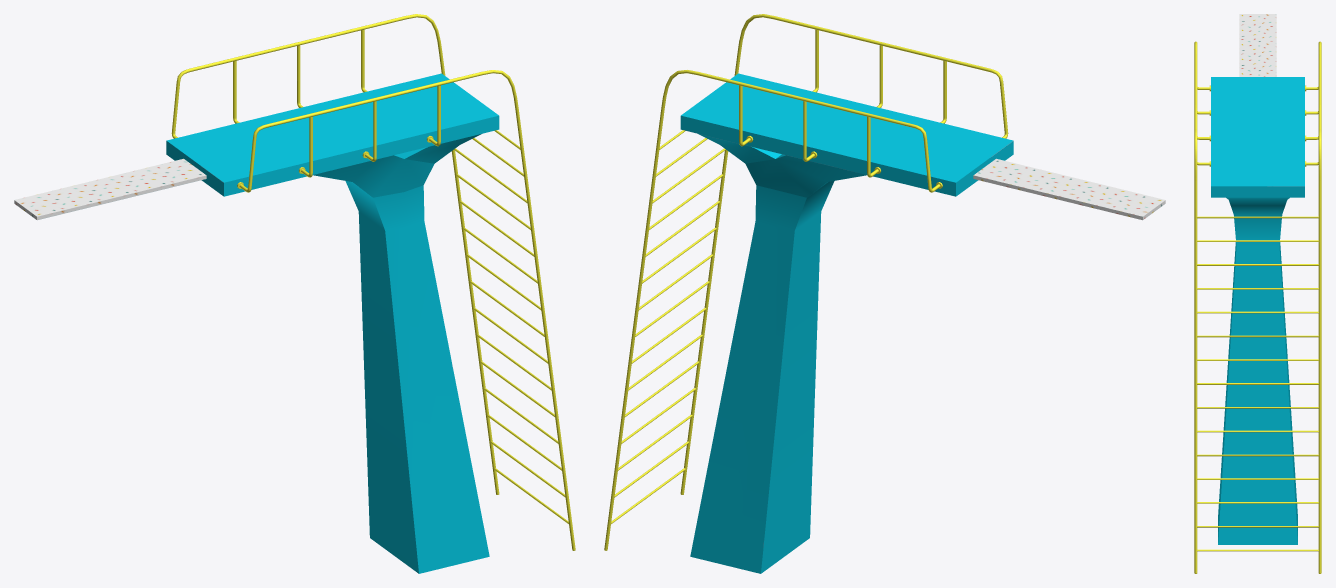
Rendered from diving_board.gltf.
3 renders of one model, left to right at view 1: azimuth 30°, elevation 25°; view 2: azimuth 150°, elevation 25°; view 3: azimuth 270°, elevation 25°, orthographic. The views are drawn at different scales.
Visible parts, largest first — view 1: diving; view 2: diving; view 3: diving.
Part boxes in pixels (box(x1,y1,x2,y2)): diving: box(14, 14, 575, 573); diving: box(604, 14, 1165, 573); diving: box(1194, 14, 1321, 573).
Size of the model in its own units: 3.83 by 3.59 by 1.01.
1 material, 1 textured.
